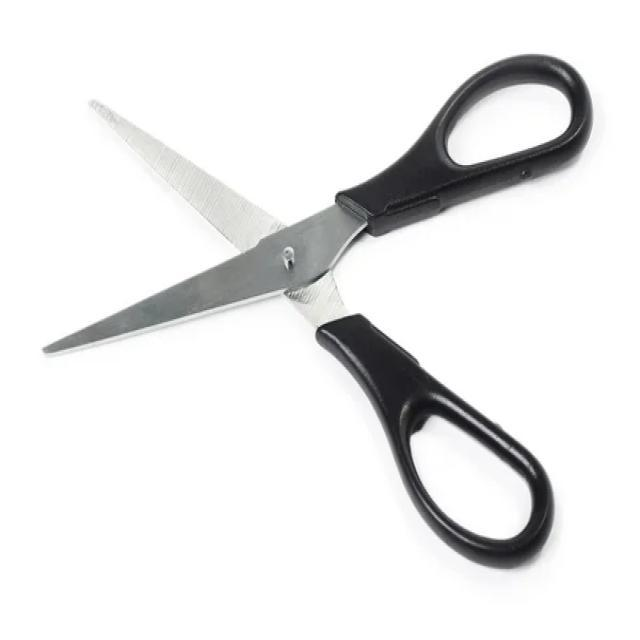tesoura: (39, 42, 598, 572)
